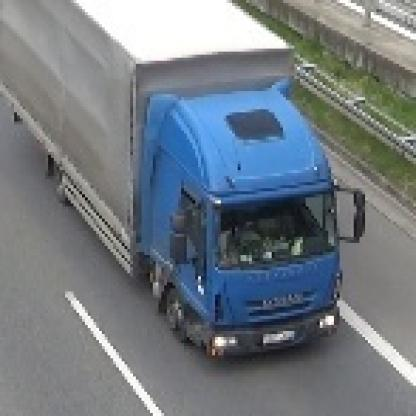truck: (1, 1, 363, 362)
